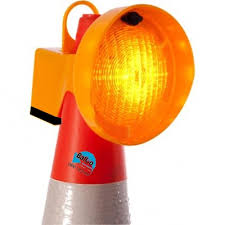cones: (33, 87, 137, 225)
